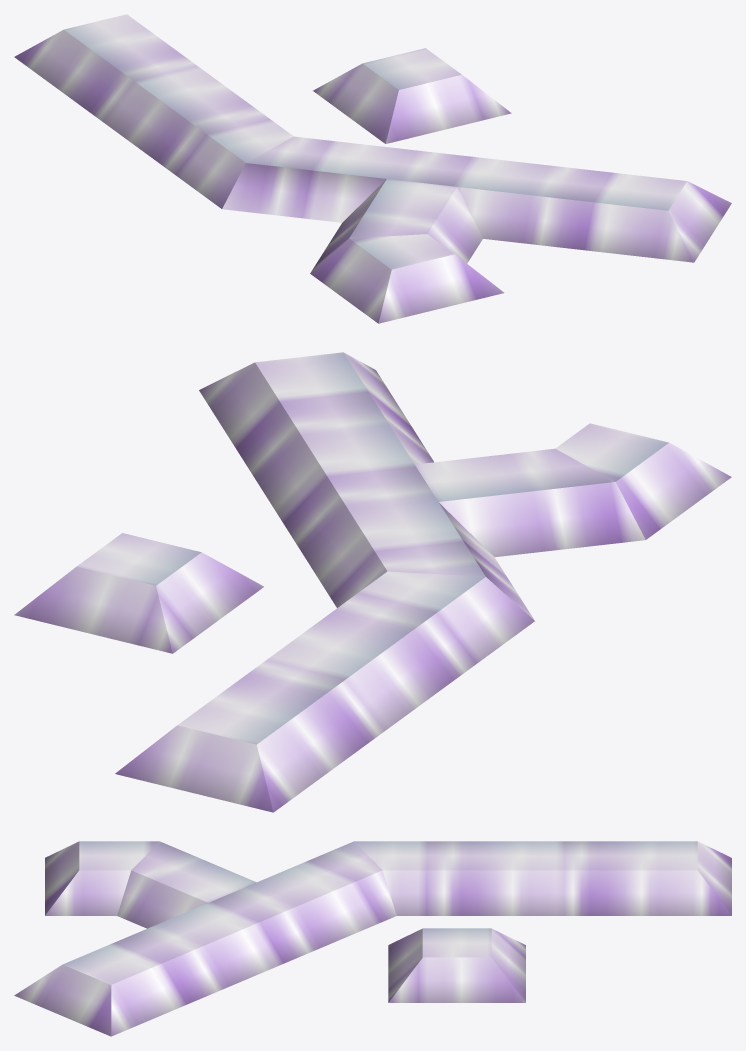
File: rune_style_l_active.obj
3 views of the same model, one above another, from view 1: azimuth 30°, elevation 25°; view 2: azimuth 150°, elevation 25°; view 3: azimuth 270°, elevation 25° (orthographic). The views are drawn at different scales.
Visible parts, largest first — view 1: RUNE_STYLE_L_ACTIVE_Plane.005; view 2: RUNE_STYLE_L_ACTIVE_Plane.005; view 3: RUNE_STYLE_L_ACTIVE_Plane.005.
Boxes of the visible parts, x1,y1,x2,y2 form: RUNE_STYLE_L_ACTIVE_Plane.005: [14, 14, 731, 323]; RUNE_STYLE_L_ACTIVE_Plane.005: [14, 352, 731, 812]; RUNE_STYLE_L_ACTIVE_Plane.005: [14, 841, 731, 1036].
Bounding box in the file's own units: 0.3848 × 0.0312 × 0.6531.
